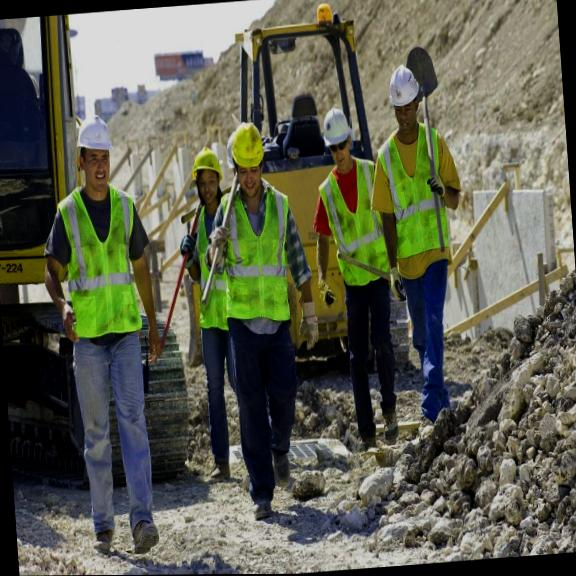safety_vest: (37, 183, 158, 347), (368, 117, 466, 265), (213, 179, 301, 334), (313, 155, 391, 293), (184, 196, 242, 336)
